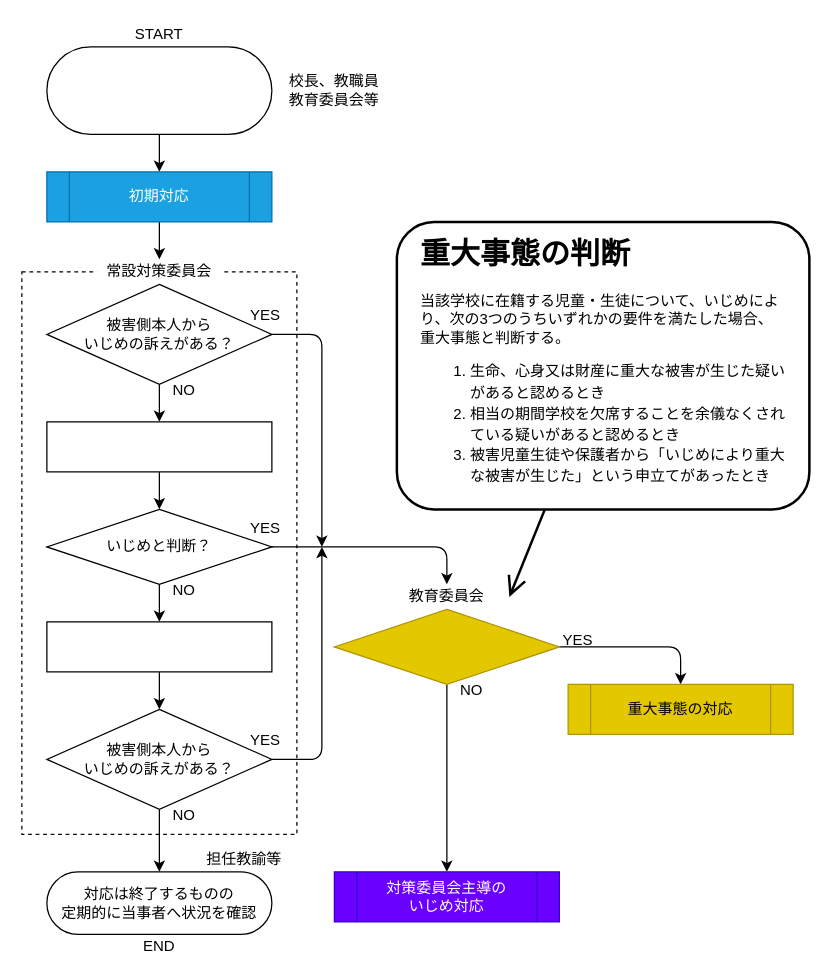
Image size: 833x980. Some labels were removed from this diagram. Each missing label, with the centre of its shape:
アンケート、相談、申告、 通報、発見等による、いじめと 疑われる事案の認知: [159,90]
本人と保護者に報告: [159,646]
総合的な判断: [159,446]
重大事態に該当？: [446,646]
